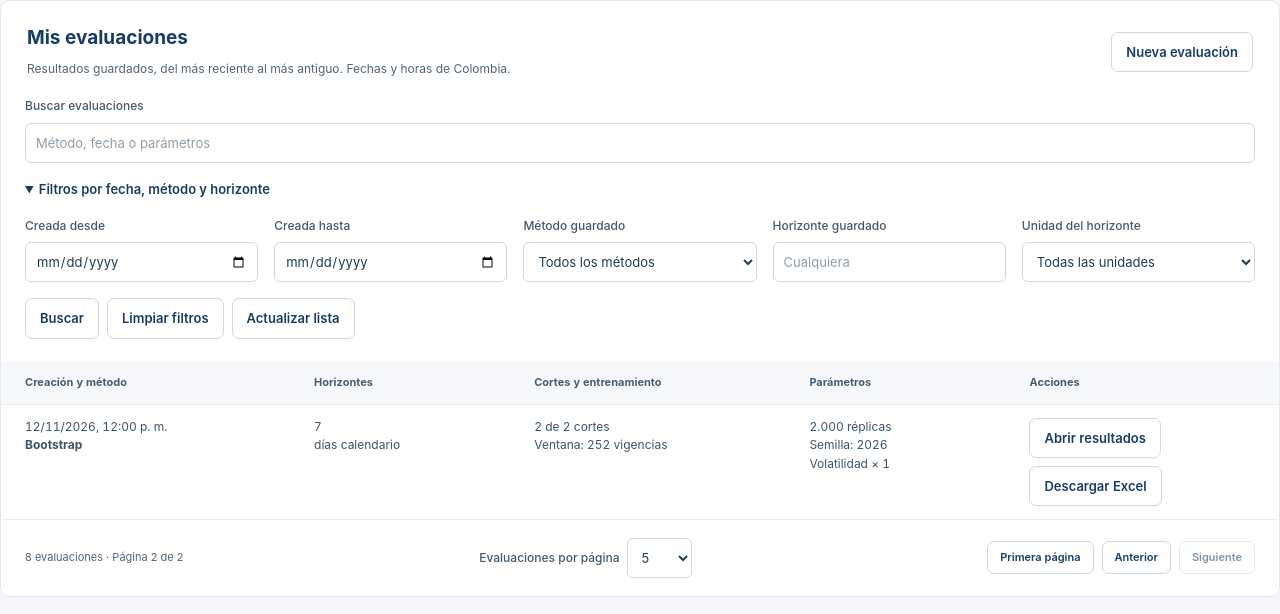
it: pagina, combina filtros y vuelve a la primera página al buscar o limpiar
Earlier steps of the test are not shown.
Later steps or results of the test are not shown.
Type "Montecarlo" into the search field labelled "Buscar evaluaciones" at (640, 143), box [25,123,1255,163]
Select "Montecarlo" in the dropdown labelled "Método guardado" at (640, 262), box [523,242,757,282]
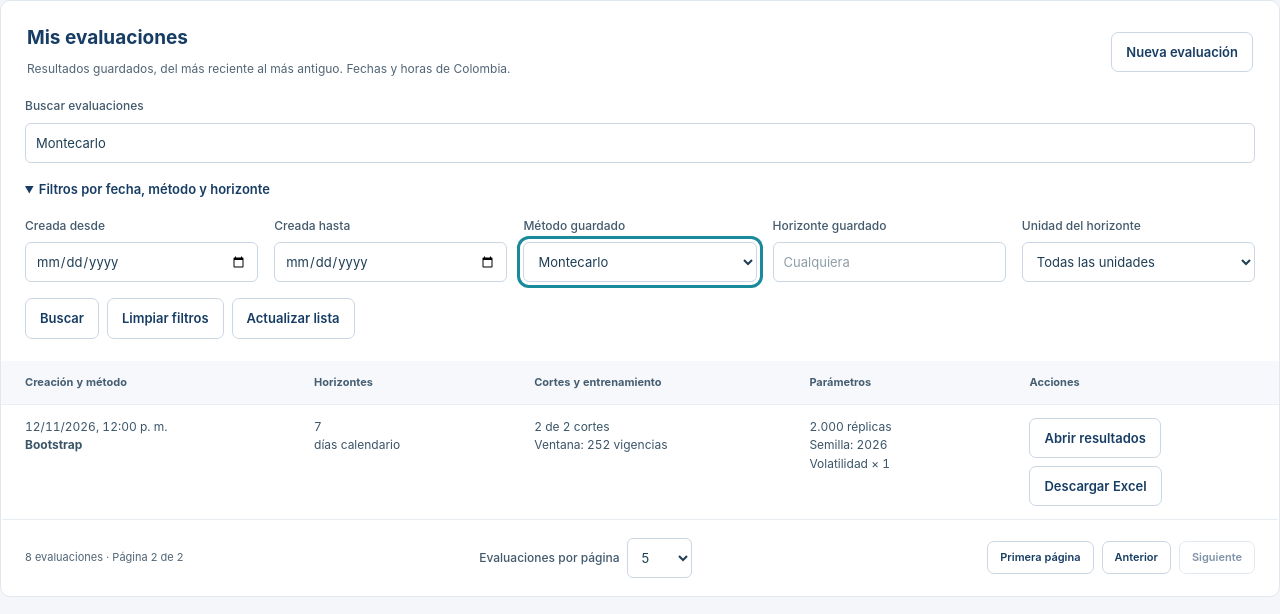
Type "30" into the number field labelled "Horizonte guardado" at (889, 262), box [773,242,1006,282]
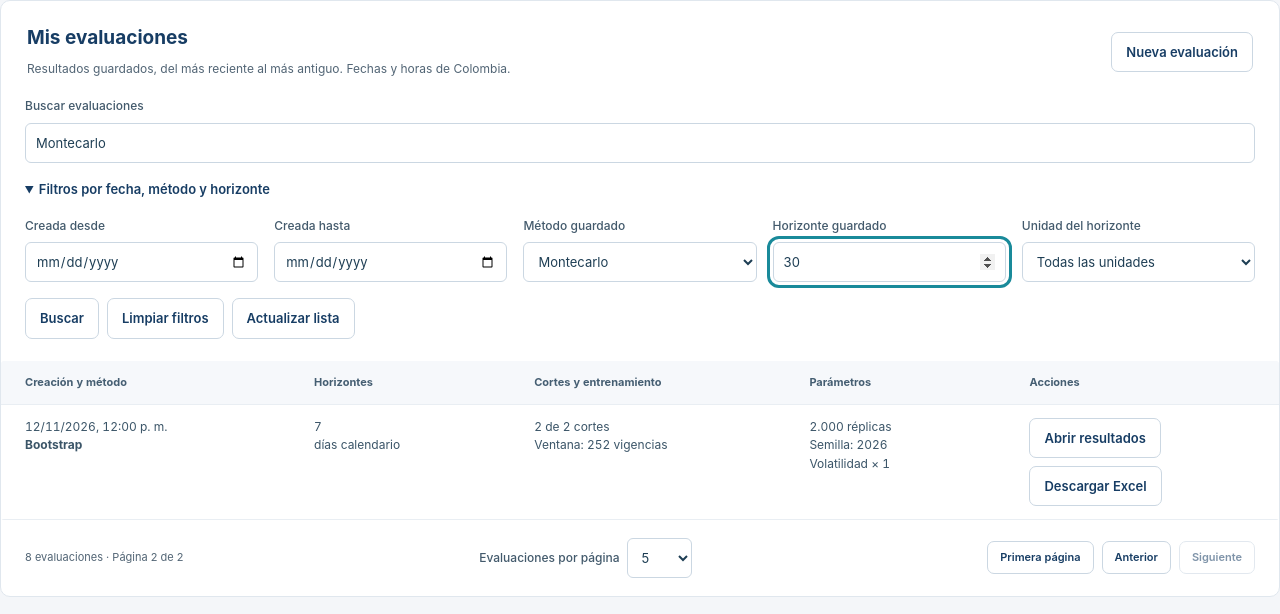
Type "2026-01-01" into the date field labelled "Creada desde" at (142, 262), box [25,242,258,282]
Type "2026-11-01" into the date field labelled "Creada hasta" at (391, 262), box [274,242,507,282]
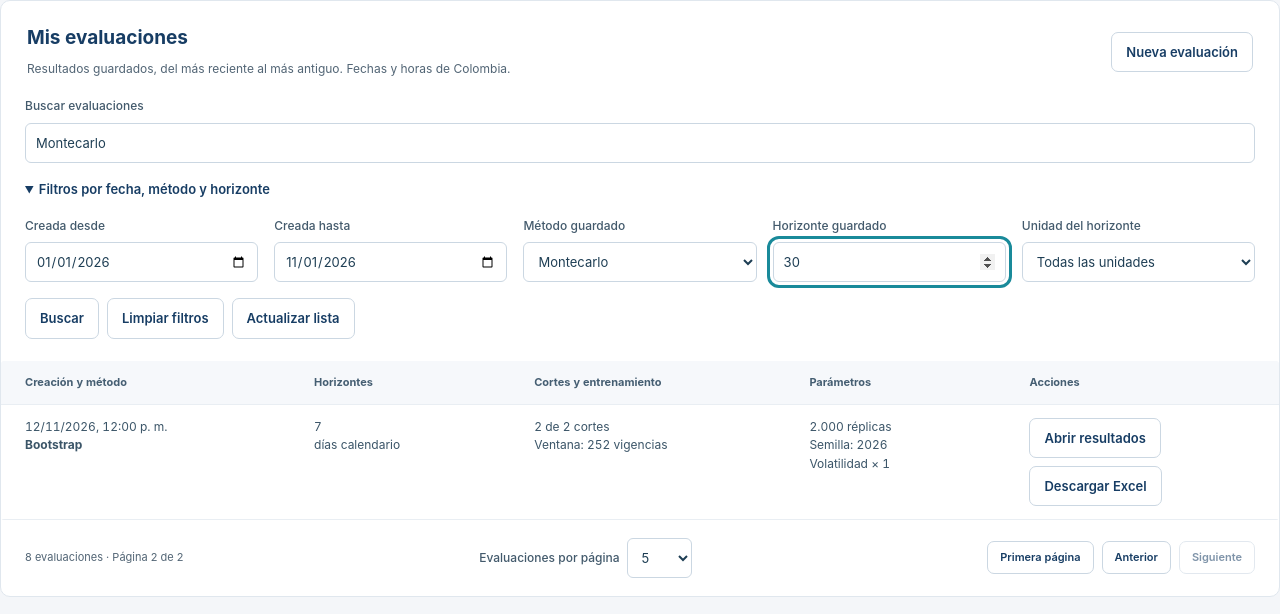
Select "Días calendario" in the dropdown labelled "Unidad del horizonte" at (1138, 262), box [1022,242,1255,282]
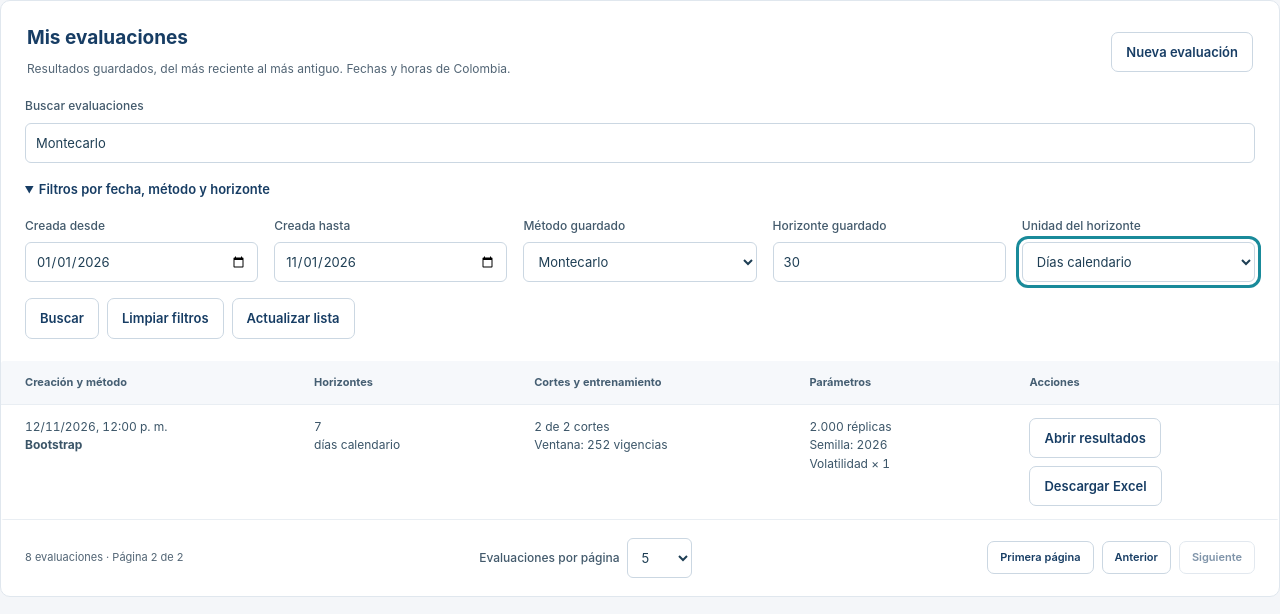
Click the button "Buscar" at (62, 318), box [25,298,99,338]
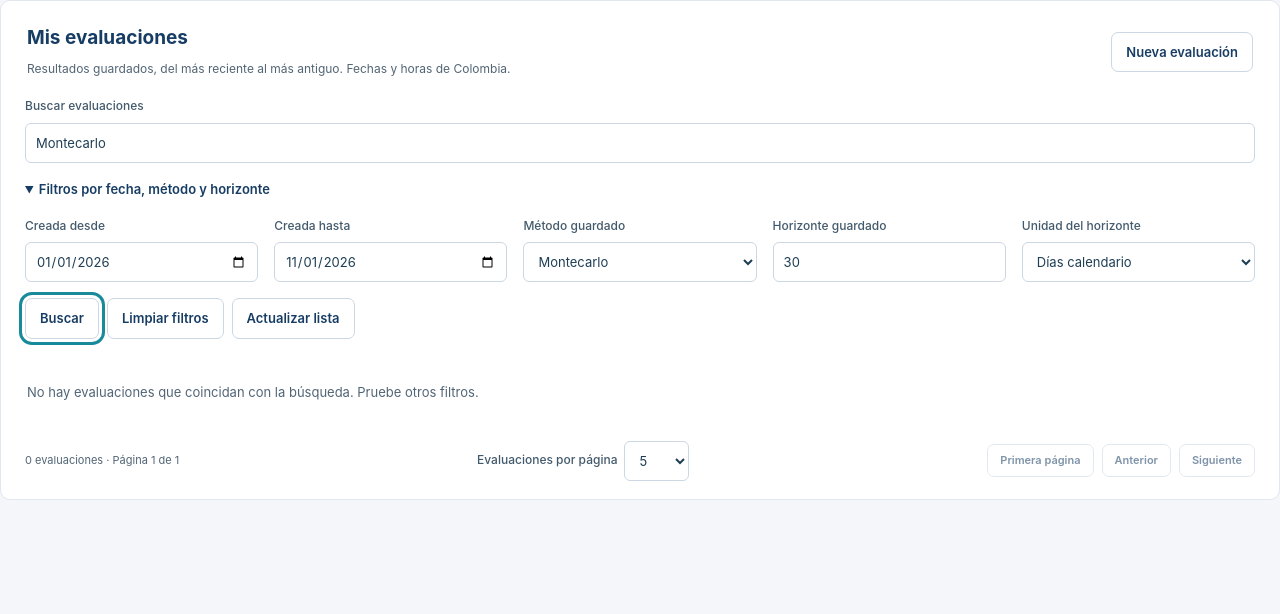
Check: the text "No hay evaluaciones que coincidan con la búsqueda. Pruebe otros filtros." is shown, box [27,384,479,400]
Click the button "Limpiar filtros" at (165, 318), box [107,298,224,338]
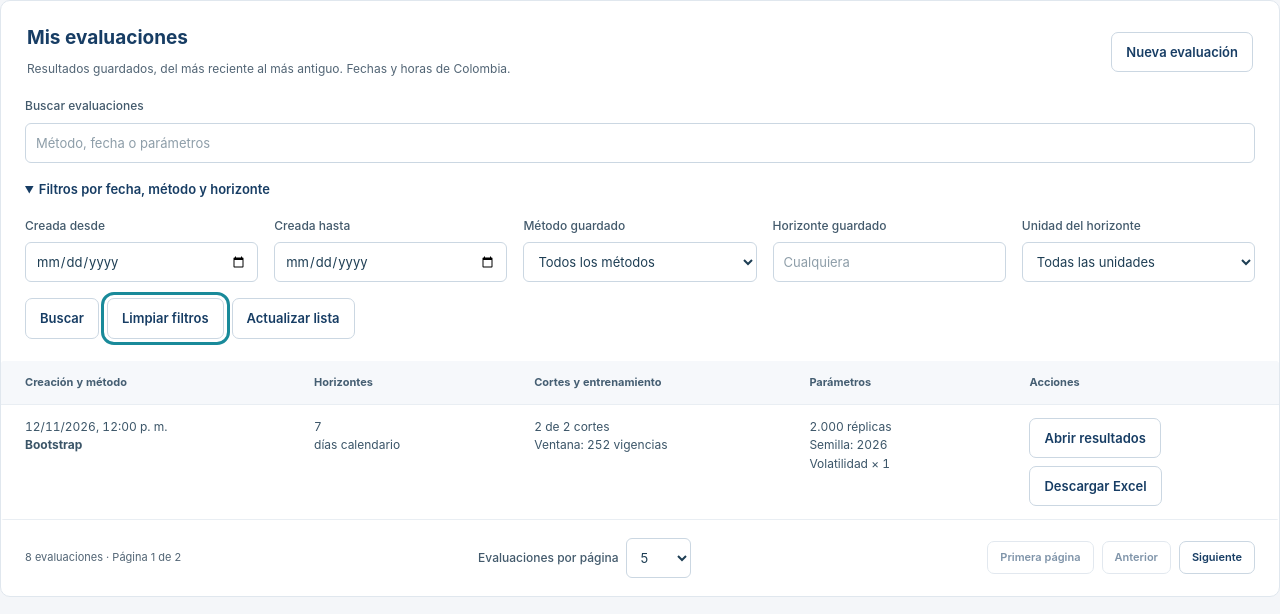
Check: the text "8 evaluaciones · Página 1 de 2" is shown, box [25,549,181,566]
Check: the search field labelled "Buscar evaluaciones" is empty, box [25,123,1255,163]
